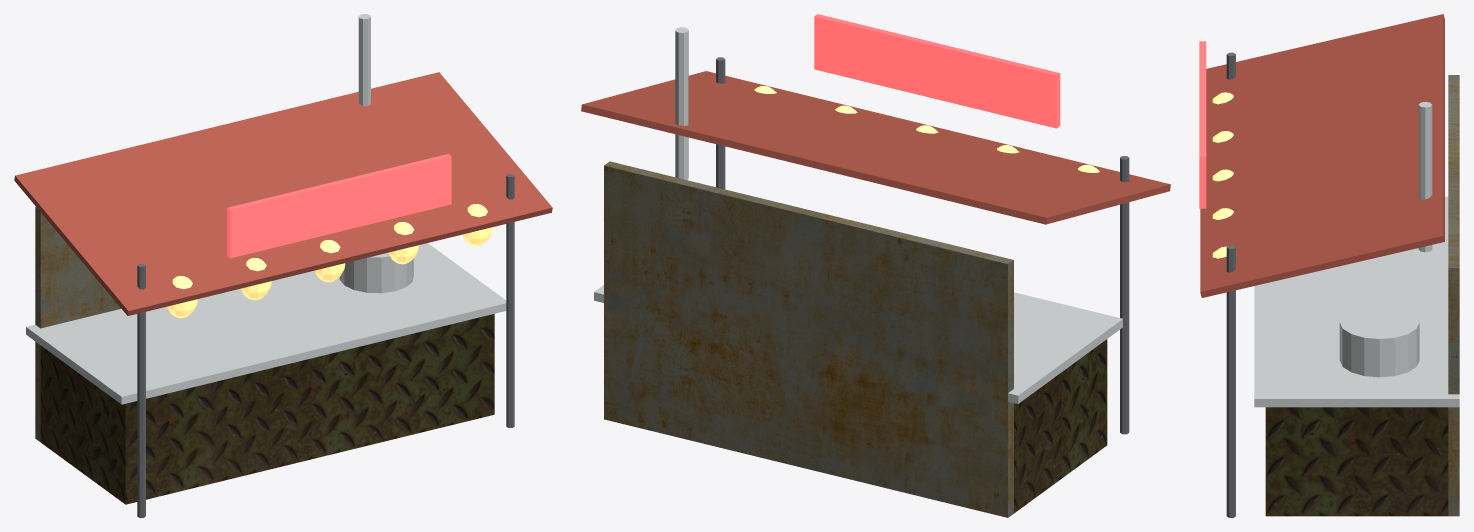
File: mars_food_stall.glb
3 renders of one model, left to right at view 1: azimuth 30°, elevation 25°; view 2: azimuth 150°, elevation 25°; view 3: azimuth 270°, elevation 25°, orthographic. The views are drawn at different scales.
Parts seen in each view (by area): view 1: root_fabric, root_metal, root_steel, root_neonRed, root_rustsheet, root_darksteel, root_lantern; view 2: root_rustsheet, root_fabric, root_neonRed, root_metal, root_steel, root_darksteel, root_lantern; view 3: root_fabric, root_steel, root_metal, root_rustsheet, root_darksteel, root_neonRed, root_lantern.
Part boxes in pixels (x1,y1,x2,y2): root_fabric: (14,72,552,315); root_metal: (40,314,494,504); root_steel: (26,14,506,404); root_neonRed: (227,154,451,258); root_rustsheet: (35,206,121,441); root_darksteel: (137,174,514,517); root_lantern: (167,204,492,318); root_rustsheet: (604,161,1013,517); root_fabric: (581,71,1170,224); root_neonRed: (814,14,1060,128); root_metal: (1014,339,1107,513); root_steel: (594,27,1122,403); root_darksteel: (716,57,1129,434); root_lantern: (754,86,1099,172); root_fabric: (1200,14,1444,297); root_steel: (1254,101,1459,407); root_metal: (1265,407,1448,516); root_rustsheet: (1448,75,1459,516); root_darksteel: (1226,52,1235,517); root_neonRed: (1199,41,1206,208); root_lantern: (1212,92,1233,258).
Size of the model in its own units: 4.6 by 3.7 by 2.28.
7 materials, 7 textured.
